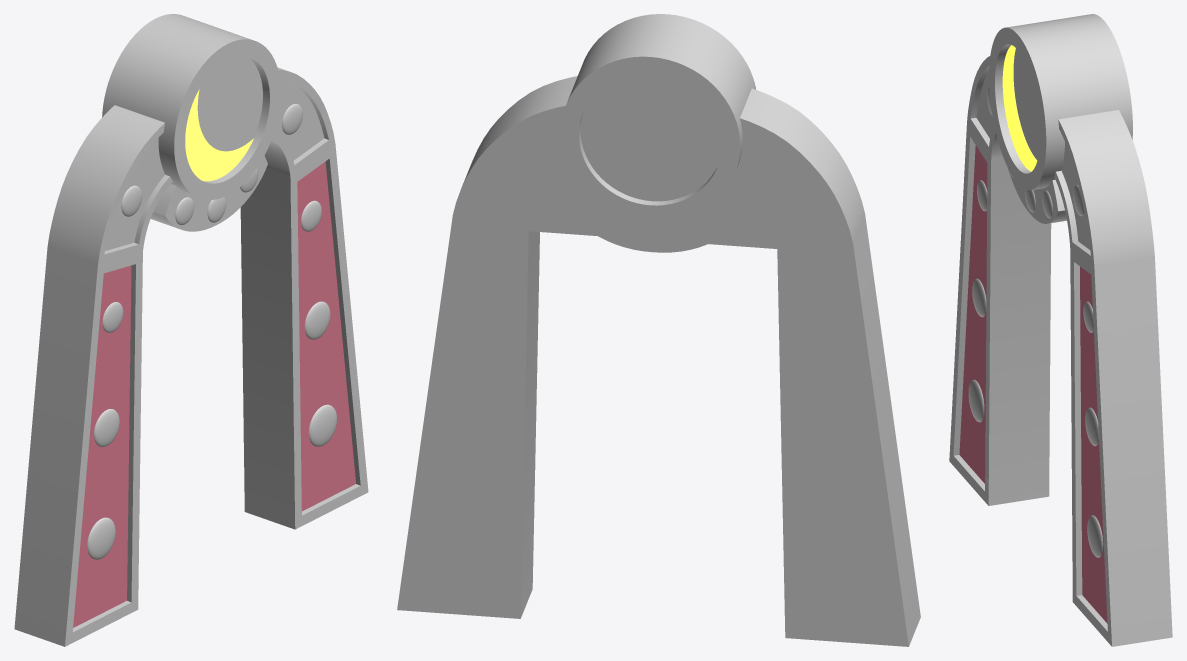
Rendered from Arch left.fbx.
3 views of the same model, side by side, from view 1: azimuth 30°, elevation 25°; view 2: azimuth 150°, elevation 25°; view 3: azimuth 270°, elevation 25° (orthographic). The views are drawn at different scales.
Parts seen in each view (by area): view 1: Circle.004; view 2: Circle.004; view 3: Circle.004.
Boxes of the visible parts, box(x1,y1,x2,y2) form: Circle.004: box(14, 14, 368, 646); Circle.004: box(397, 14, 920, 646); Circle.004: box(949, 14, 1172, 646).
Bounding box in the file's own units: 754 × 940 × 365.
